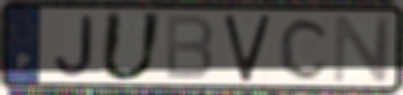B: (163, 13, 216, 82)
C: (278, 15, 334, 82)
J: (50, 13, 96, 79)
N: (331, 14, 395, 85)
U: (97, 9, 166, 84)
V: (221, 12, 274, 84)
